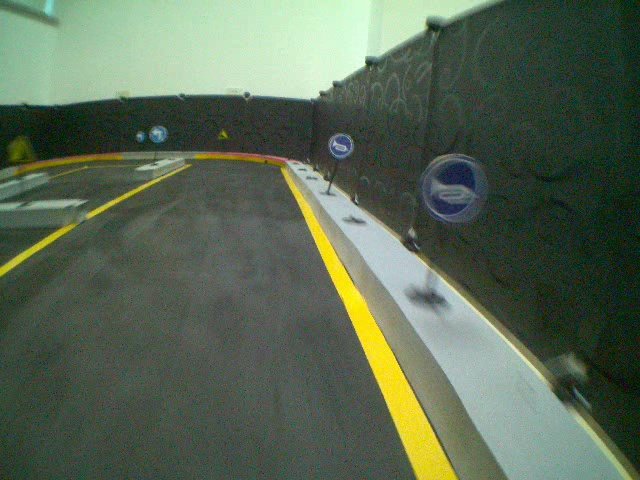fast: (214, 128, 230, 142)
horn: (419, 154, 487, 223), (328, 132, 355, 160)
turn: (148, 124, 167, 144)
